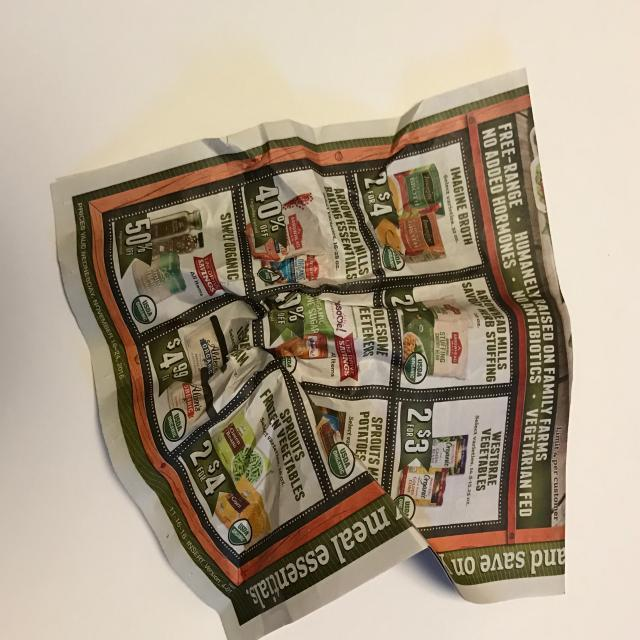paper: (50, 67, 604, 640)
